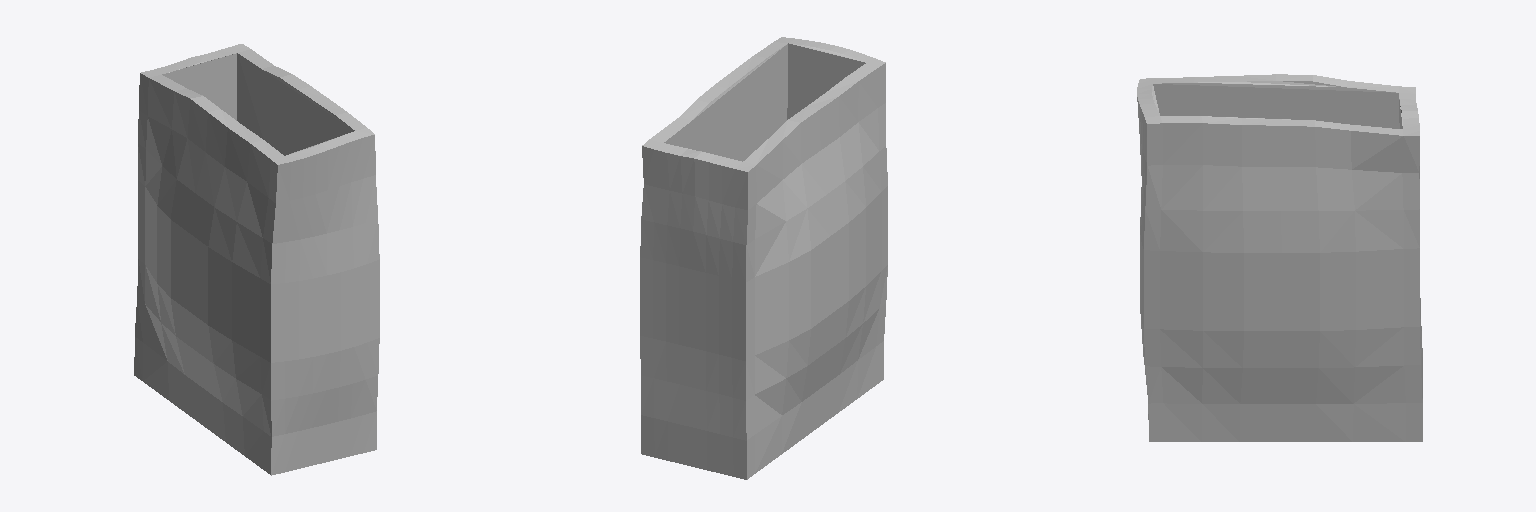
The model's file is burgerbags.obj.
3 renders of one model, left to right at view 1: azimuth 30°, elevation 25°; view 2: azimuth 150°, elevation 25°; view 3: azimuth 270°, elevation 25°, orthographic.
Visible parts, largest first — view 1: Cube.001; view 2: Cube.001; view 3: Cube.001.
Part boxes in pixels (left/top/right/bottom): Cube.001: left=134, top=44, right=379, bottom=475; Cube.001: left=640, top=37, right=887, bottom=479; Cube.001: left=1137, top=74, right=1422, bottom=441.
Bounding box in the file's own units: 44.15 × 104 × 84.87.